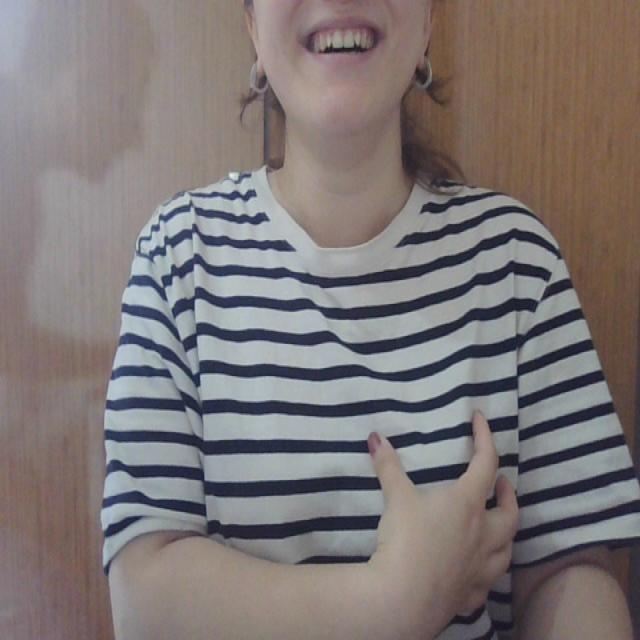Anne: (197, 398, 526, 616)
